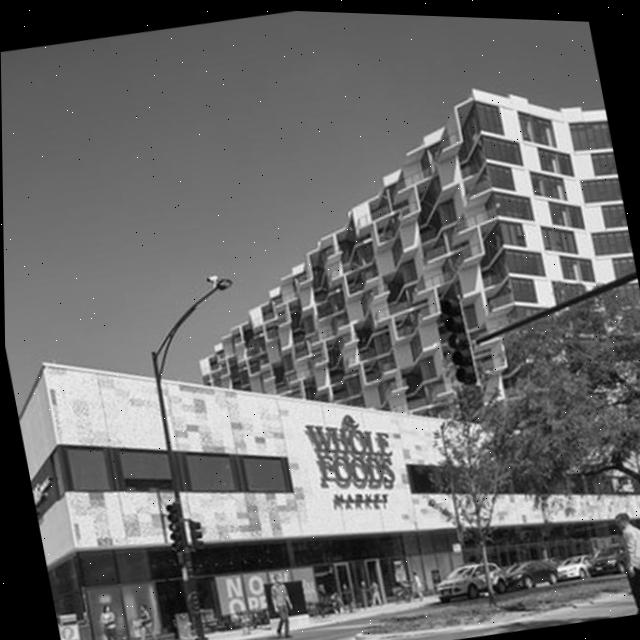building: (7, 257, 640, 640), (153, 57, 640, 474)
